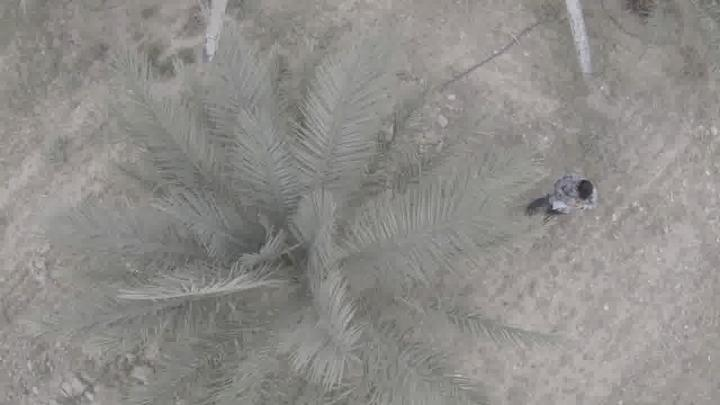Date-Palm-Crown: (168, 115, 439, 399)
